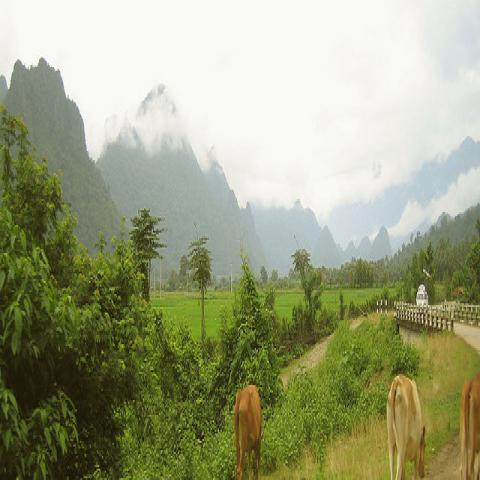car: (424, 293, 429, 305)
truck: (416, 285, 428, 305)
